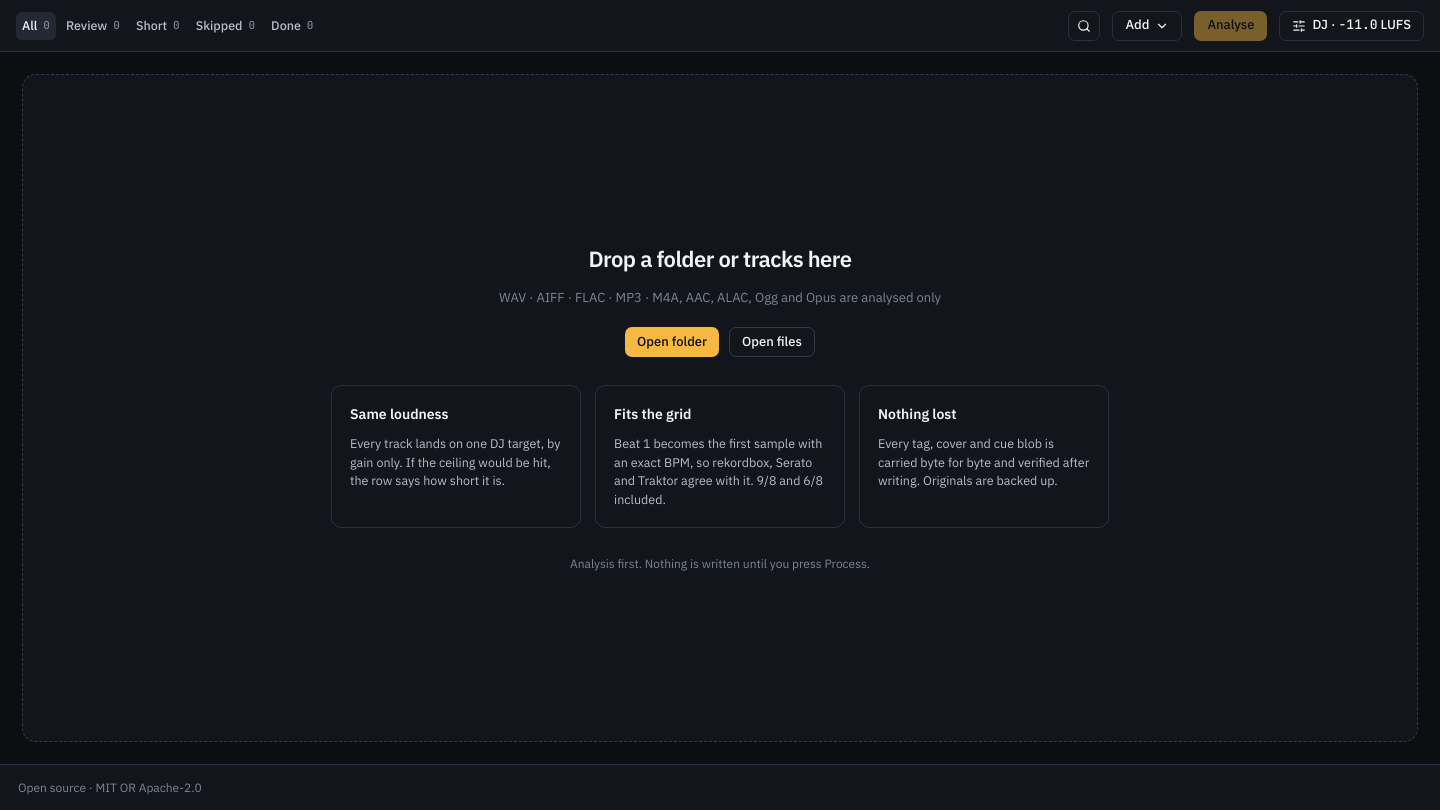
Test: the toolbar in a narrow window › folds the field when its name is cleared elsewhere, such as by Esc on the table
Press f
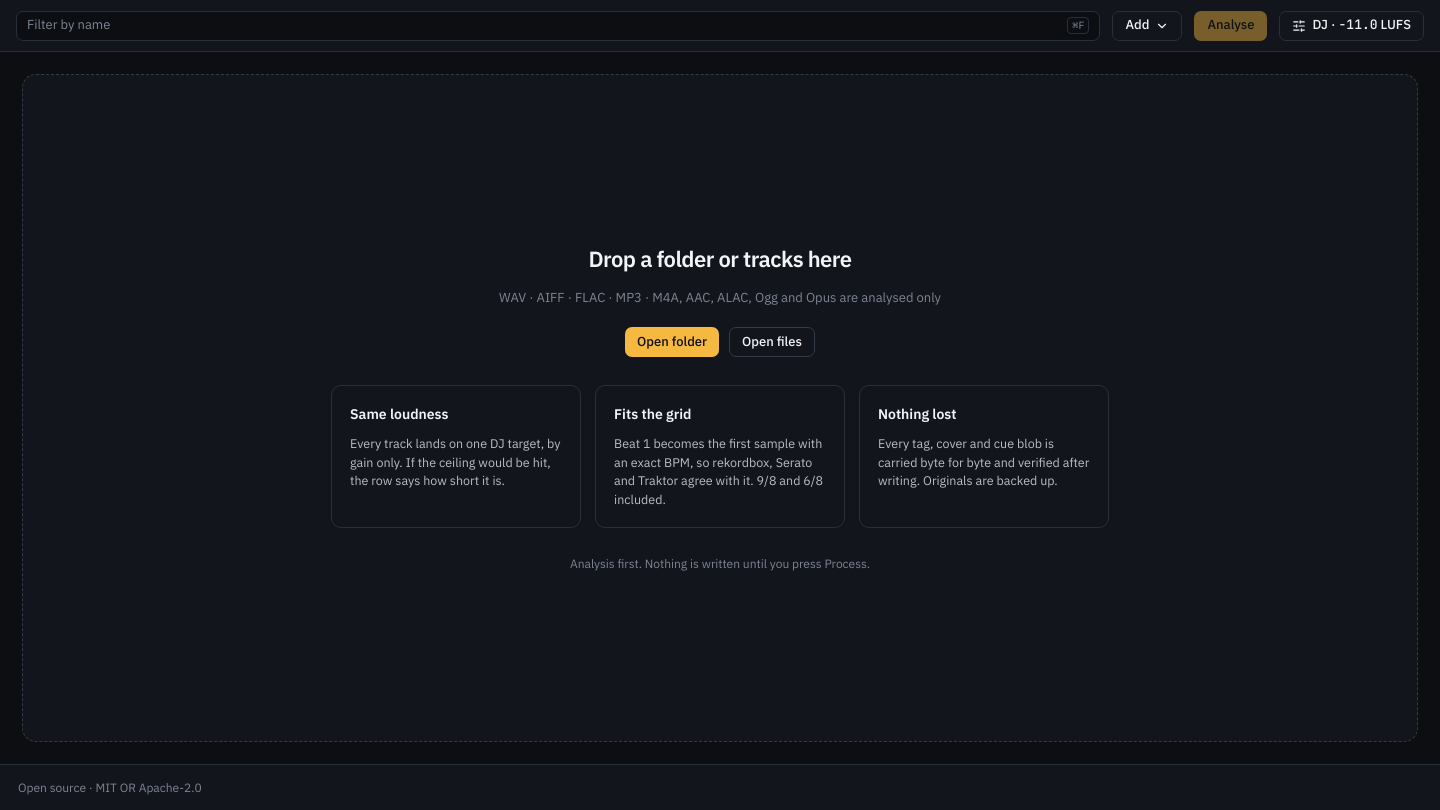
Type "drive" into the search field at {"x": 543, "y": 26}, box [27,16,1059,35]
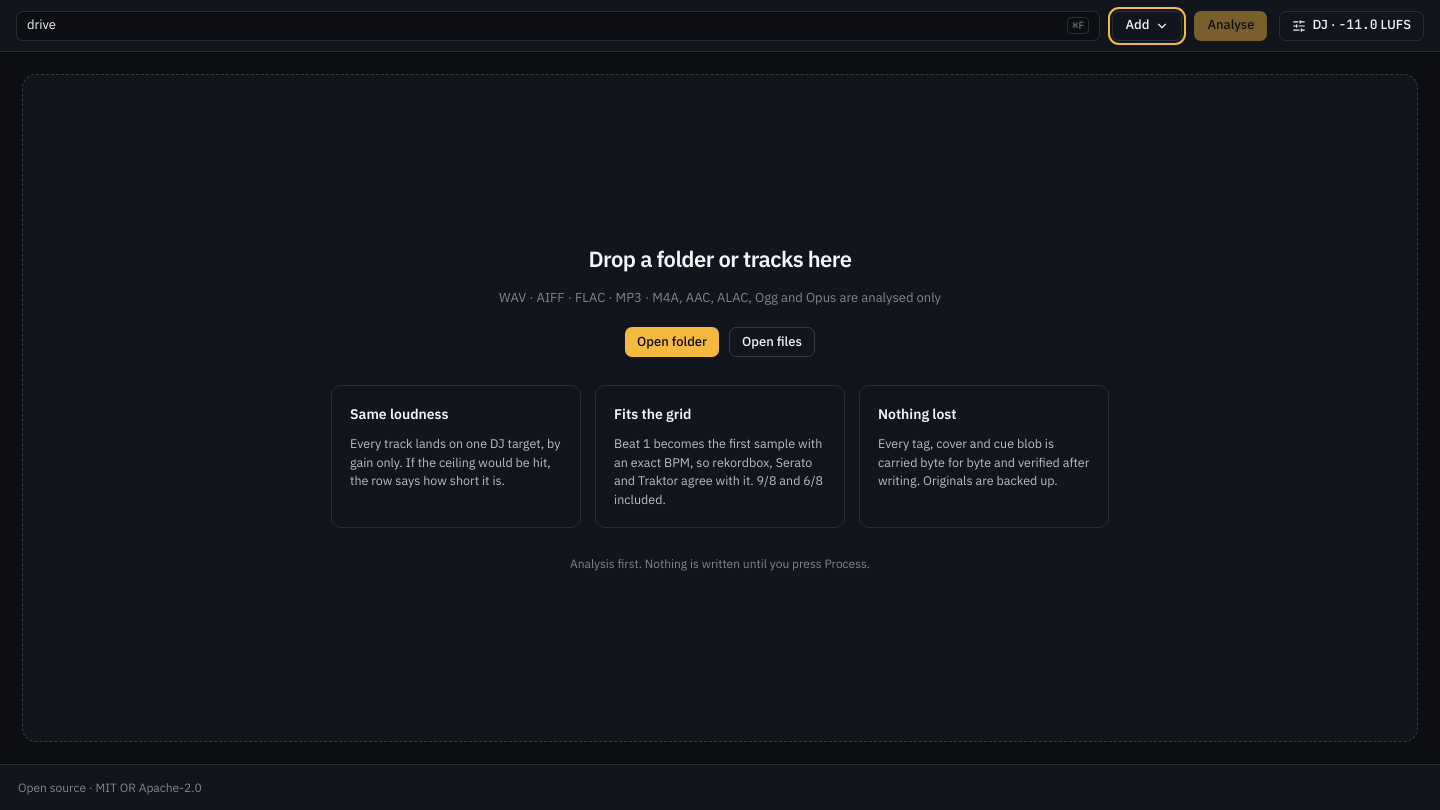
Press Escape
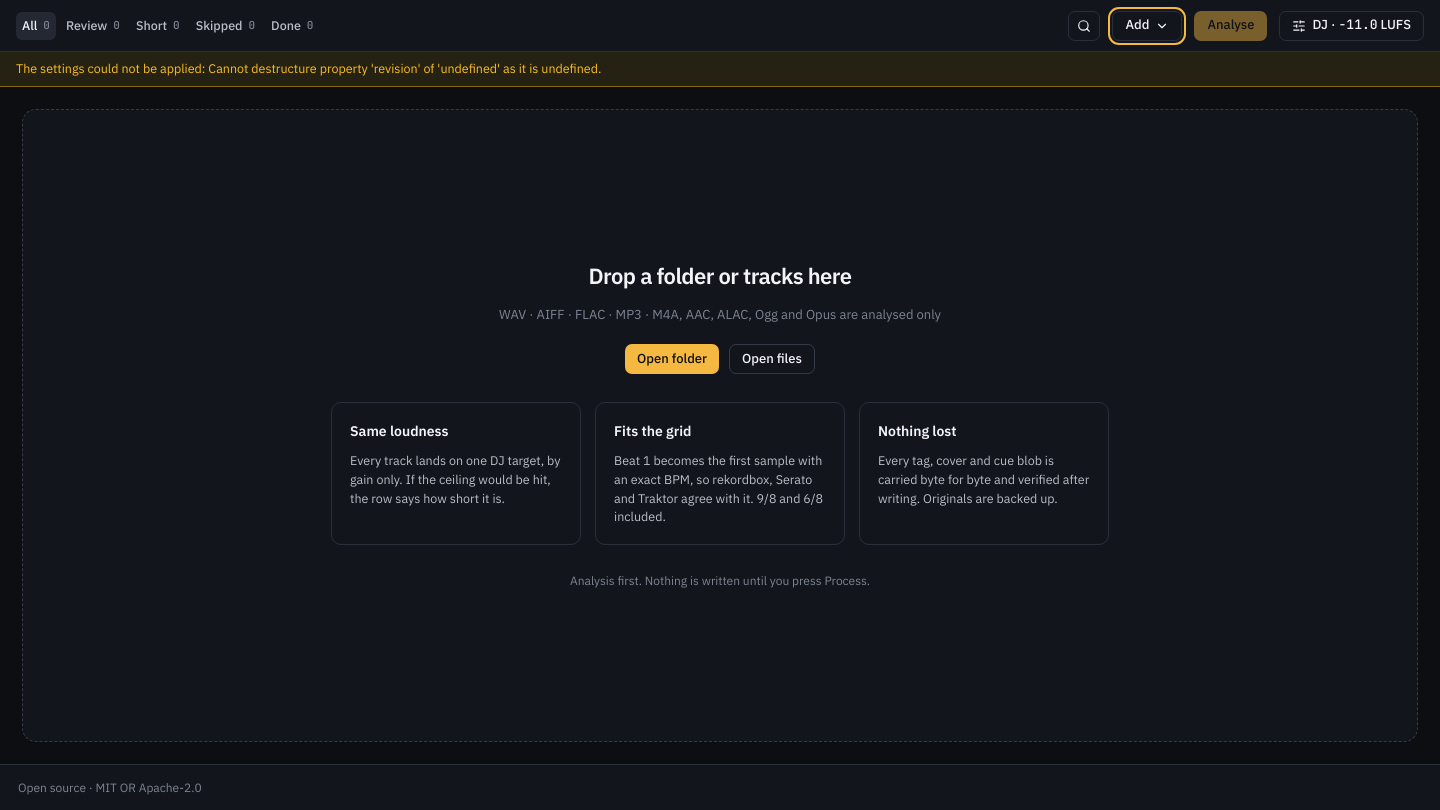
Now the navigation bar named "Filter tracks" is shown, box [16,12,320,40]
